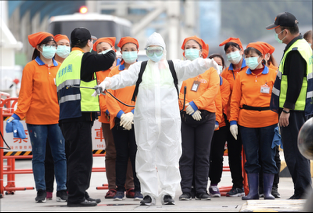with_mask: (40, 41, 58, 60), (121, 47, 139, 66), (183, 44, 201, 62), (225, 46, 242, 65), (147, 46, 165, 63), (244, 53, 261, 71), (56, 41, 72, 59), (274, 27, 285, 47), (87, 40, 94, 54)
